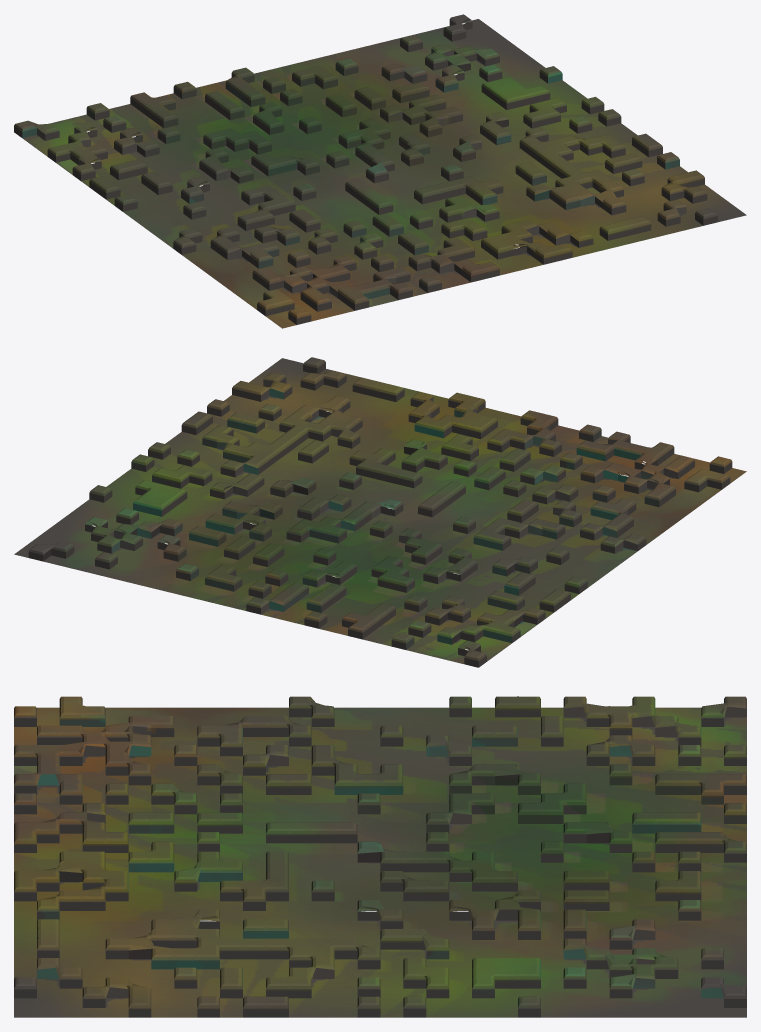
File: Zemin.fbx
3 views of the same model, one above another, from view 1: azimuth 30°, elevation 25°; view 2: azimuth 150°, elevation 25°; view 3: azimuth 270°, elevation 25° (orthographic). The views are drawn at different scales.
Visible parts, largest first — view 1: Plane; view 2: Plane; view 3: Plane.
Boxes of the visible parts, <box> form: Plane: <box>14,14,746,328</box>; Plane: <box>14,357,746,667</box>; Plane: <box>14,696,746,1017</box>.
Bounding box in the file's own units: 13373 × 258 × 13373.
1 material, 1 textured.
